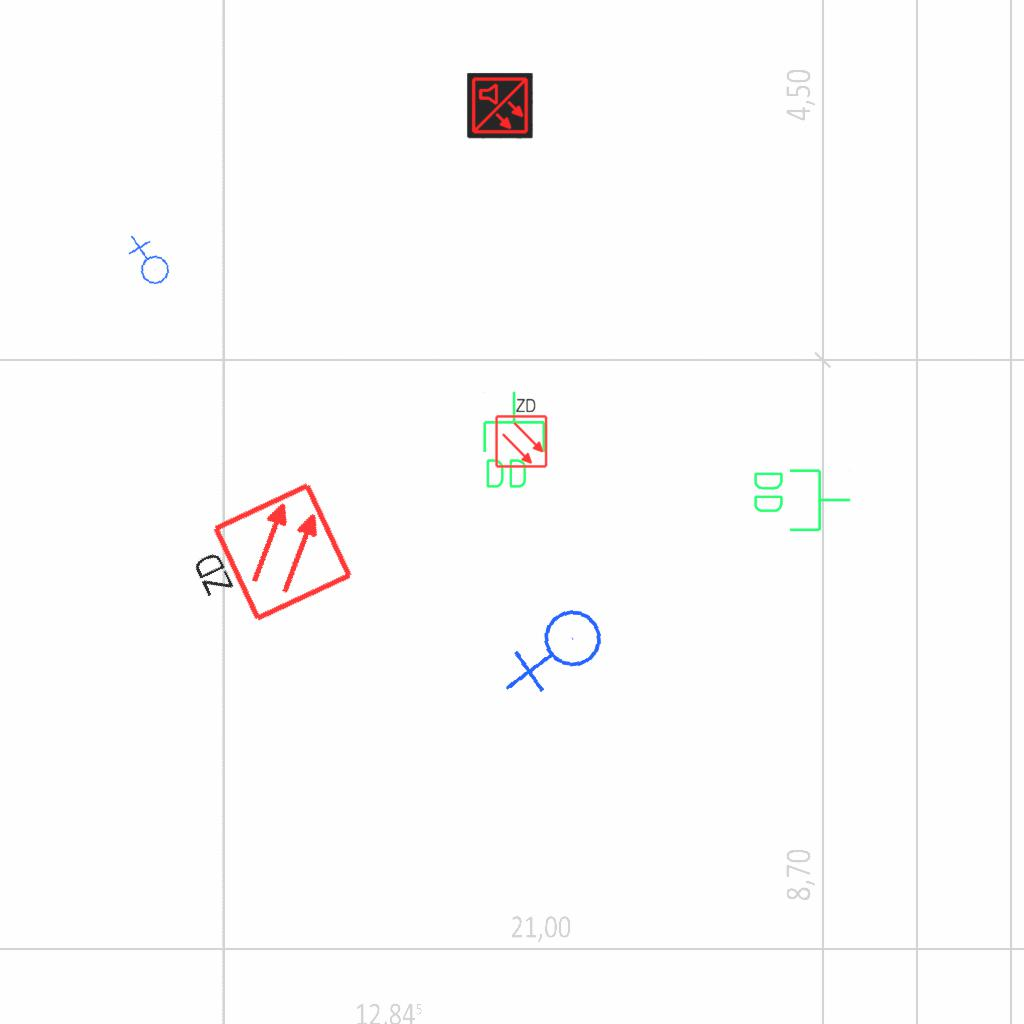Datenanschluss_zweifach: (750, 465, 853, 534), (479, 389, 548, 492)
Elektroanschluss_allgemein_230V_Geraeteanschlussdose_230V: (503, 601, 614, 707), (120, 234, 175, 291)
OKW_Multisensormelder_(Kombination_optischer_Rauch-Kahlenmonoxid_Waerme-Melder): (467, 73, 533, 139)
ZD_Melder_in_Zwischendecke_mit_Revisionsoeffnung_mind_40_x_40_cm: (174, 478, 358, 645), (492, 395, 549, 469)
